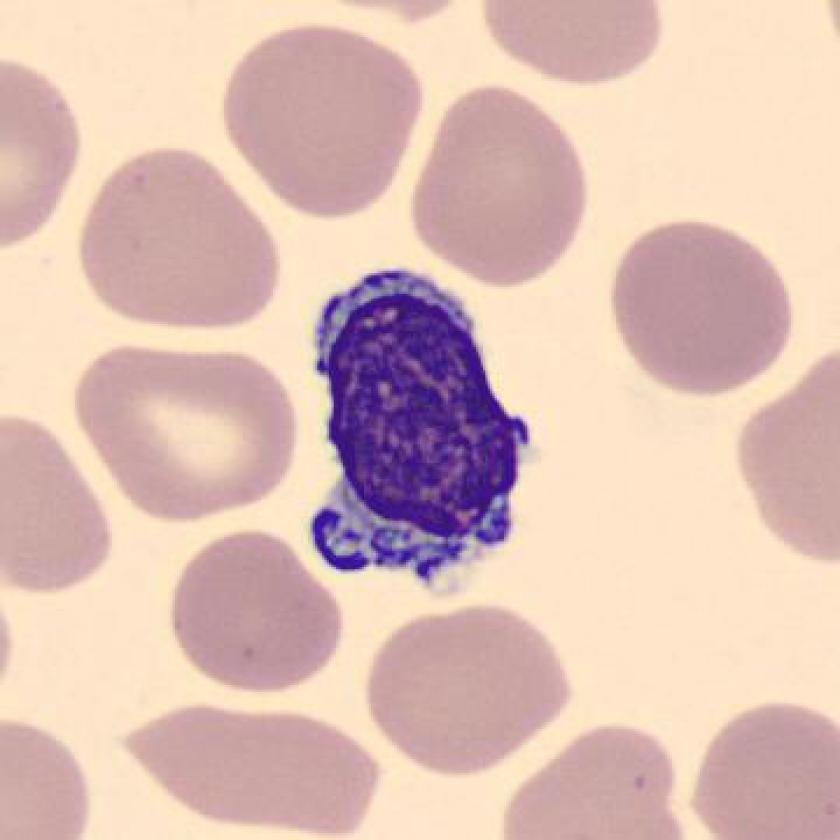lymphocyte: (281, 253, 547, 612)
